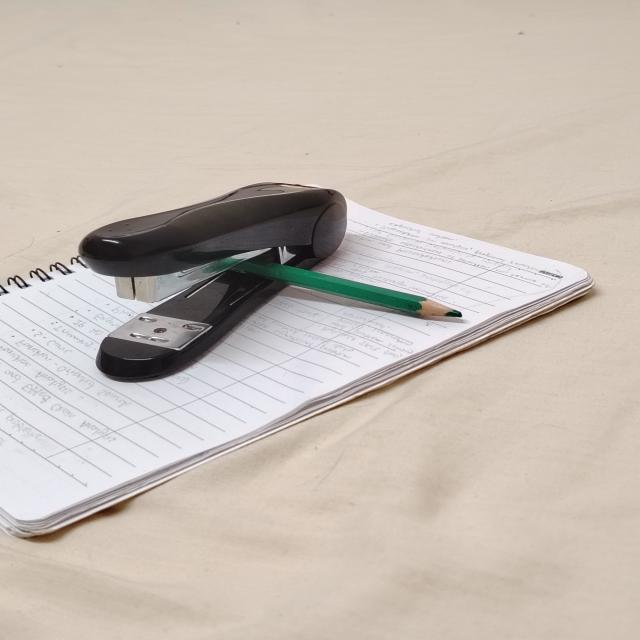pencil: (231, 260, 461, 317)
stapler: (80, 183, 347, 380)
